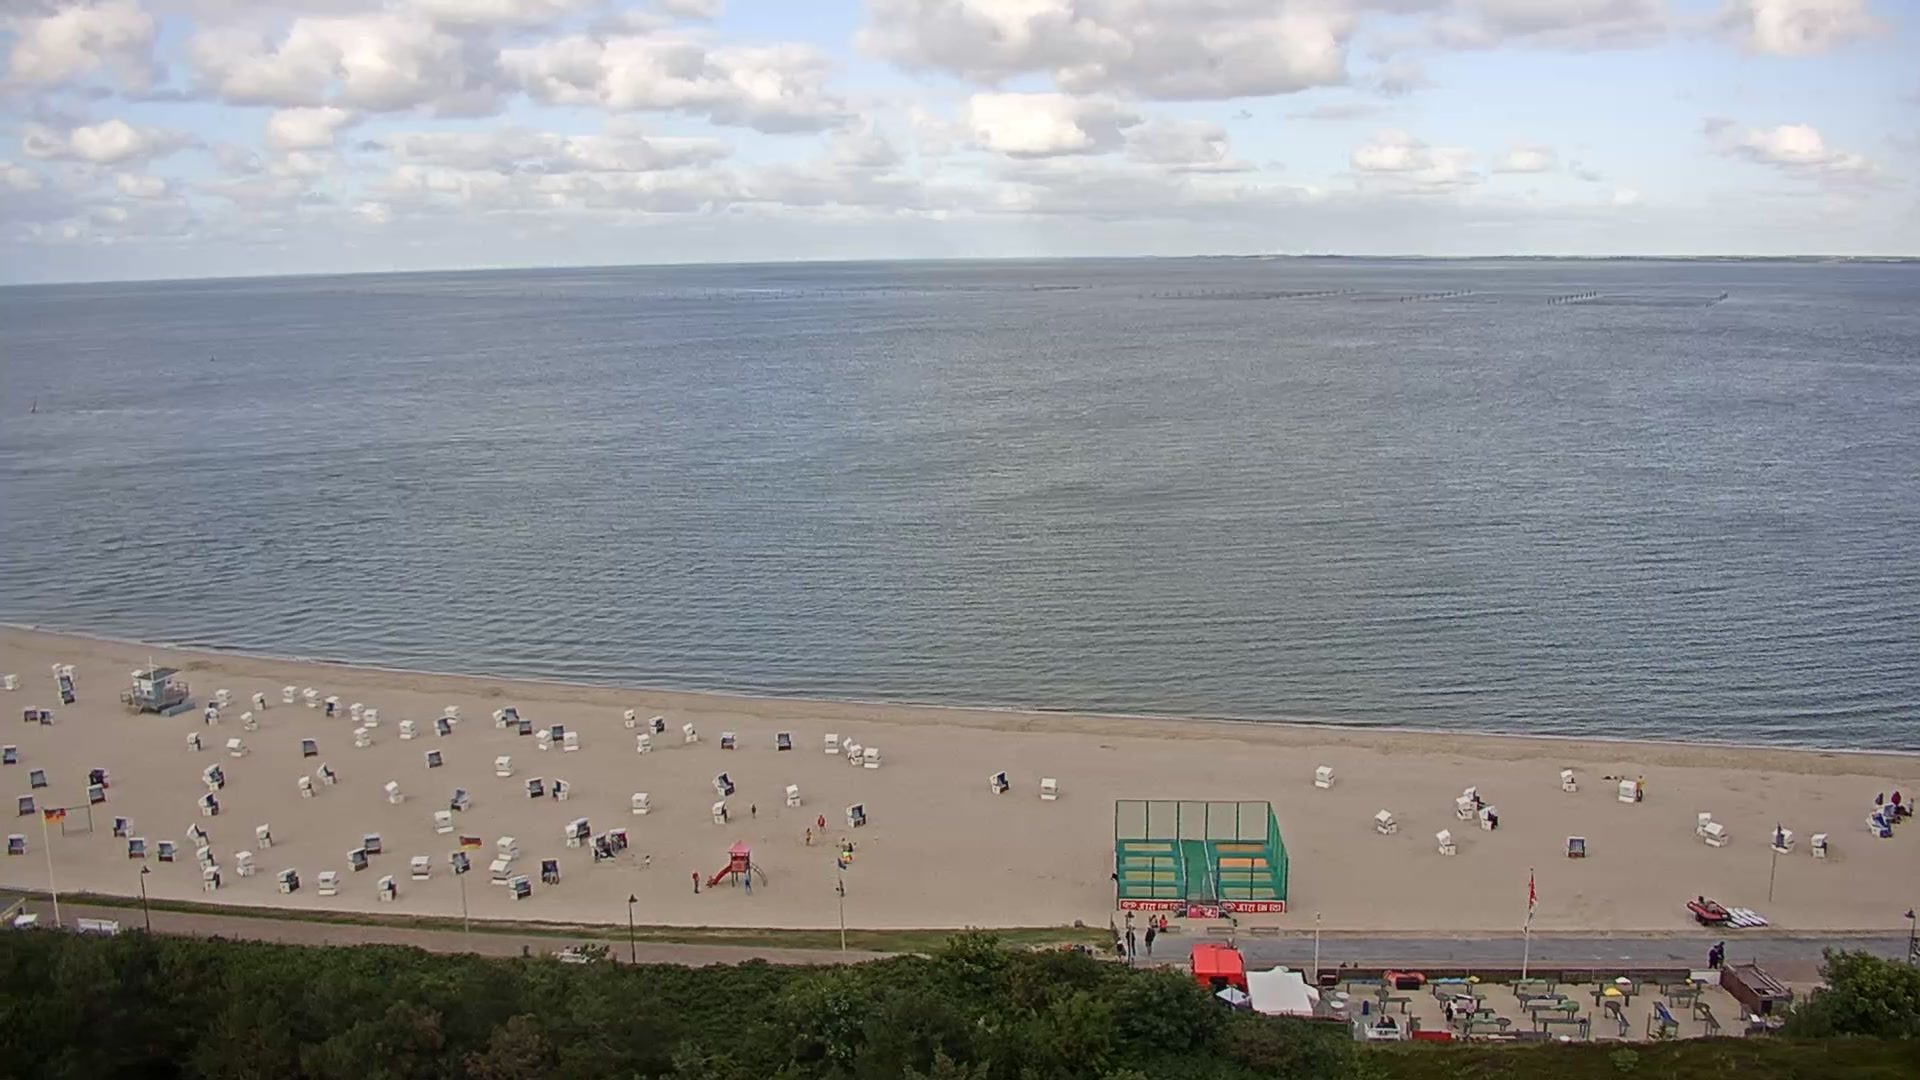human: (1125, 924, 1136, 959), (1706, 944, 1719, 969), (1144, 925, 1155, 955), (1635, 773, 1645, 800), (1375, 1015, 1387, 1036), (1465, 996, 1475, 1019), (1716, 939, 1725, 965), (1450, 998, 1458, 1028), (1115, 936, 1124, 962), (1387, 1015, 1398, 1035), (1445, 1002, 1453, 1029), (805, 826, 813, 845), (692, 870, 700, 893), (1159, 913, 1168, 931), (1891, 789, 1901, 805), (817, 813, 826, 833), (610, 832, 618, 850), (1874, 791, 1884, 805), (839, 836, 848, 851), (1149, 913, 1158, 927), (617, 831, 625, 846), (1907, 796, 1914, 815), (745, 876, 752, 893), (644, 853, 651, 866), (750, 803, 756, 819), (563, 944, 571, 954), (571, 945, 579, 955), (848, 841, 853, 851)
sea: (1685, 894, 1731, 922)
